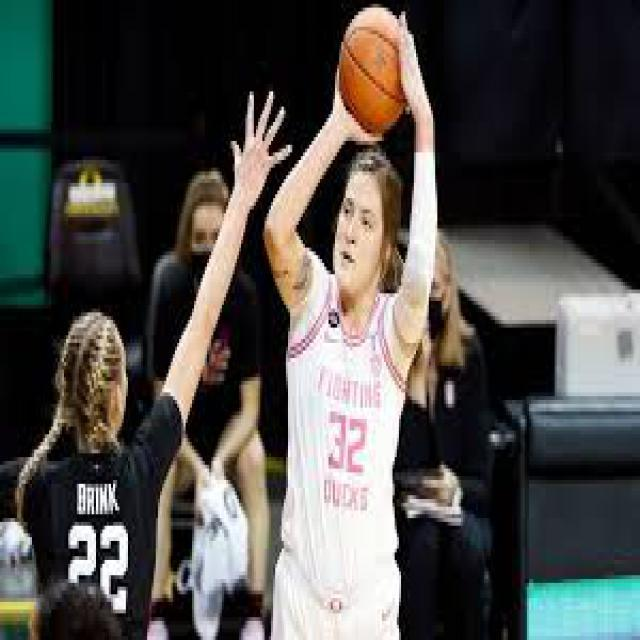basketball: (339, 8, 414, 138)
